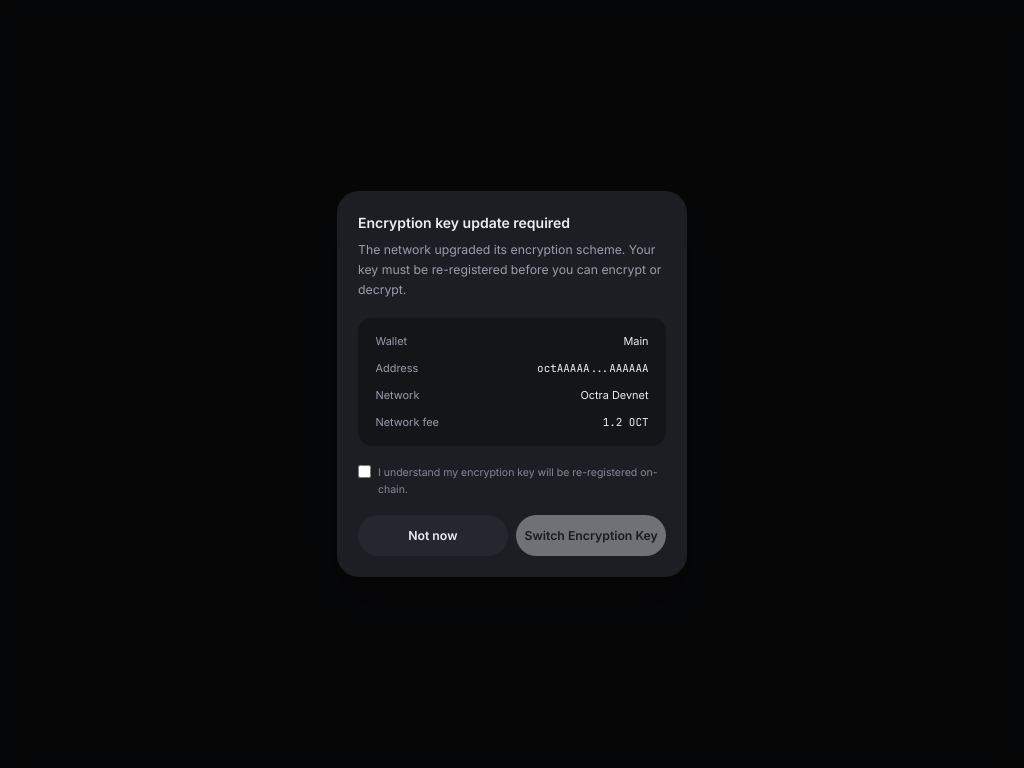
encryption key update review › refuses when the wallet or network moved before signing
Expected: the text "1.2 OCT" is shown, left=603, top=414, right=648, bottom=430
Click the checkbox.
click(364, 472)  # box left=358, top=466, right=371, bottom=478
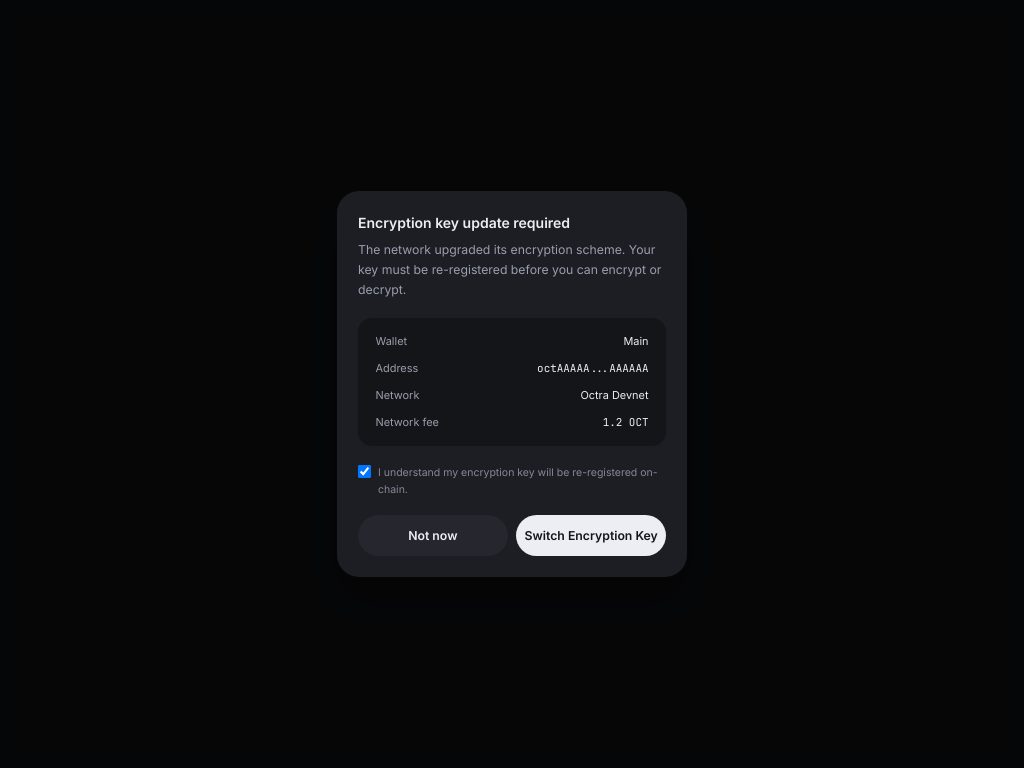
Click the button "Switch Encryption Key".
click(591, 536)  # box left=516, top=515, right=666, bottom=556
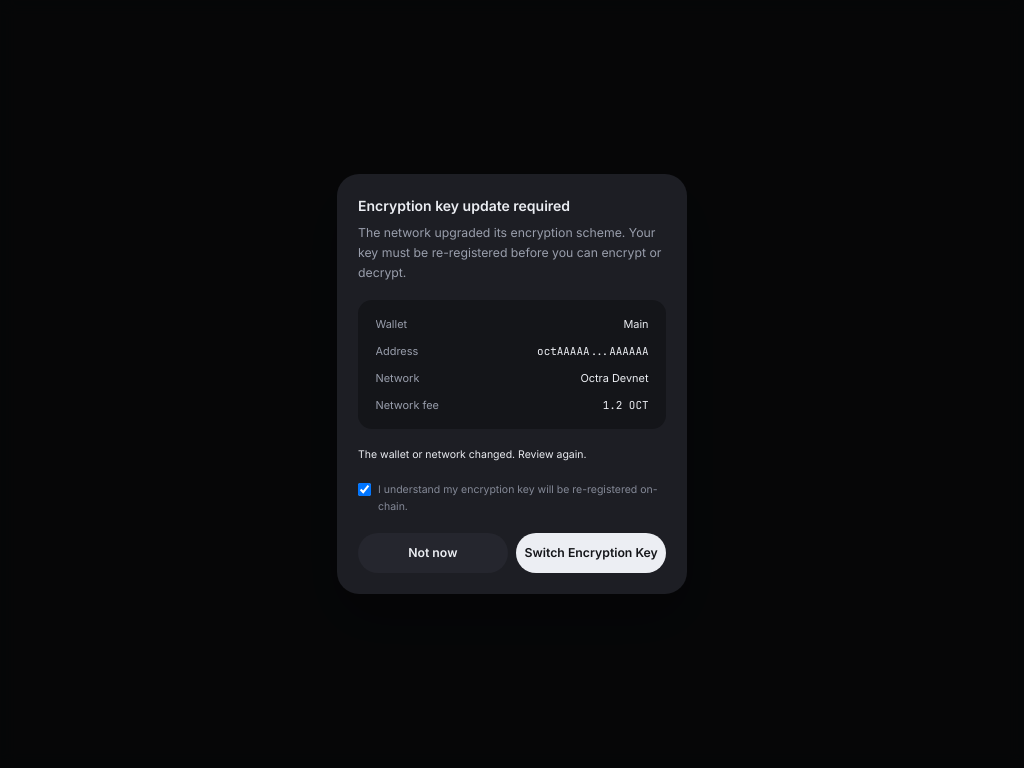
Expected: the message reads "The wallet or network changed. Review again.", left=358, top=448, right=586, bottom=462
